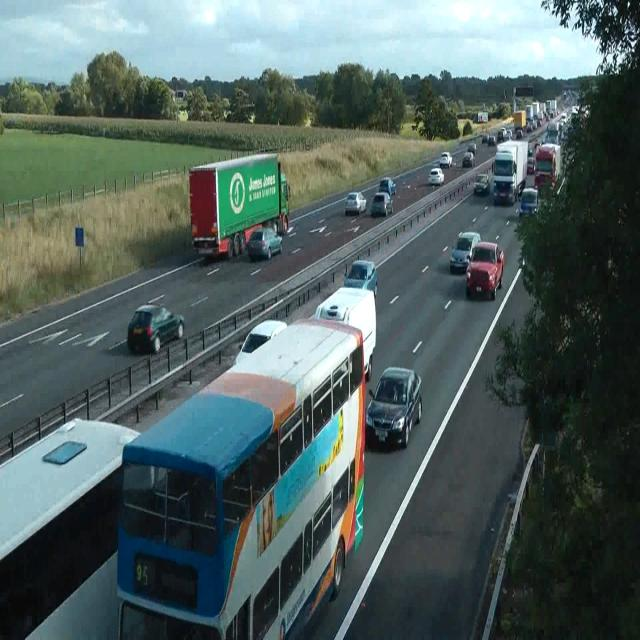bus: (366, 365, 422, 449), (127, 303, 185, 355), (234, 318, 288, 366), (343, 259, 378, 297), (450, 230, 480, 273), (247, 228, 283, 260), (518, 187, 538, 217), (371, 191, 393, 217), (344, 191, 366, 215), (474, 172, 489, 194), (427, 167, 444, 186), (379, 177, 395, 195), (527, 144, 535, 173), (440, 151, 452, 168), (462, 151, 474, 167), (518, 178, 526, 196), (468, 142, 478, 155), (488, 135, 496, 146), (515, 128, 523, 139), (481, 133, 489, 143)
car: (116, 316, 366, 638)
jeep: (466, 240, 504, 300)
minibus: (188, 152, 290, 260), (313, 286, 376, 382), (492, 140, 528, 206), (533, 142, 557, 188), (514, 110, 526, 131), (472, 111, 488, 123), (546, 99, 556, 117)
